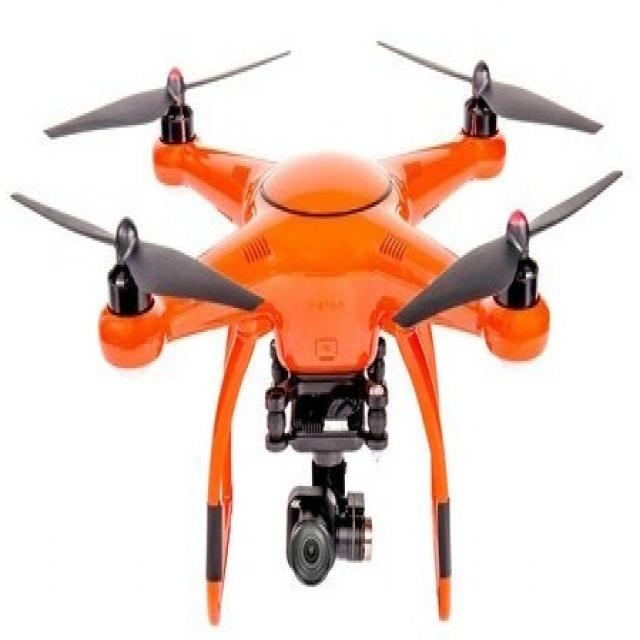drone: (8, 18, 627, 631)
